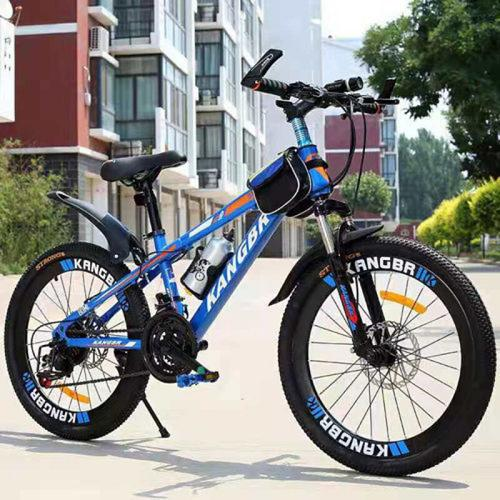单车: (3, 39, 500, 481)
